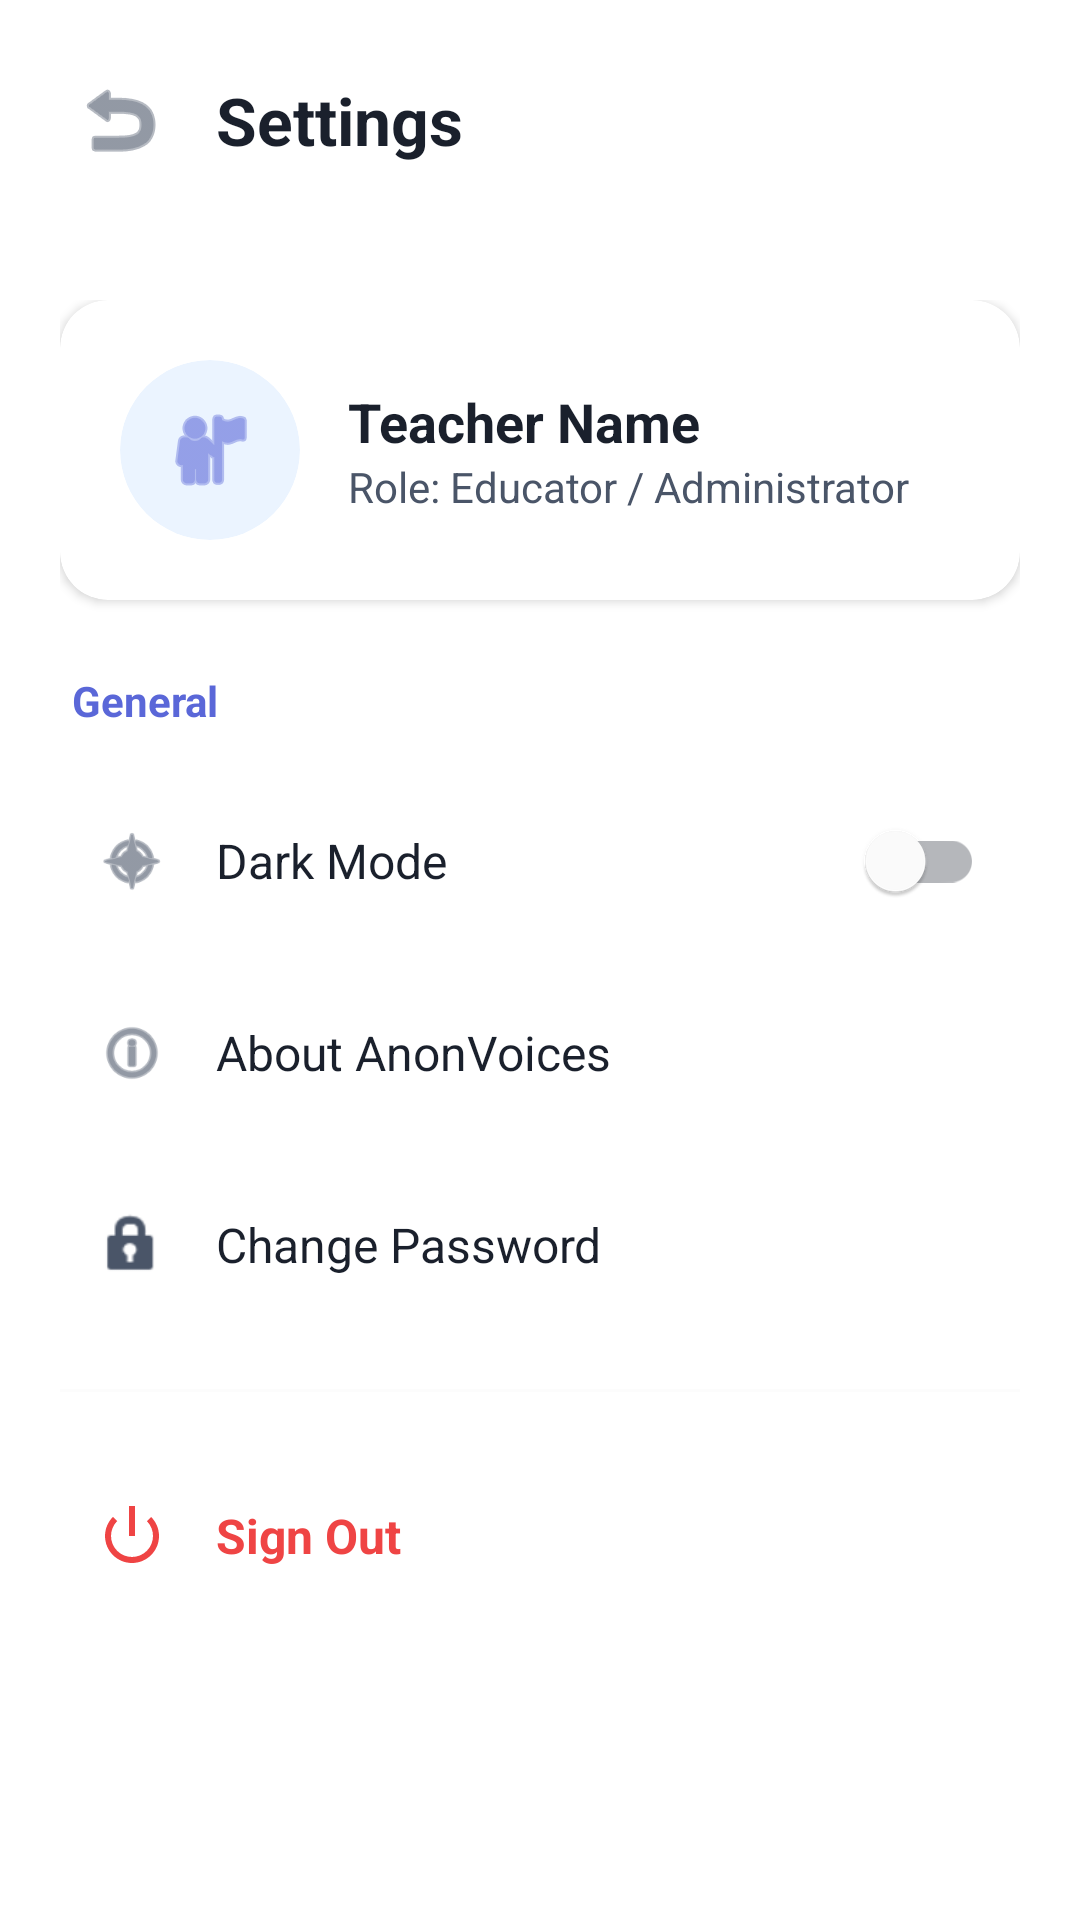

Icons on this 1080×1920 Android screen, each with the point to tap as [x,y]:
info details: [132,1053]
lock idle: [130,1242]
lock power off: [132,1534]
revert: [121,120]
